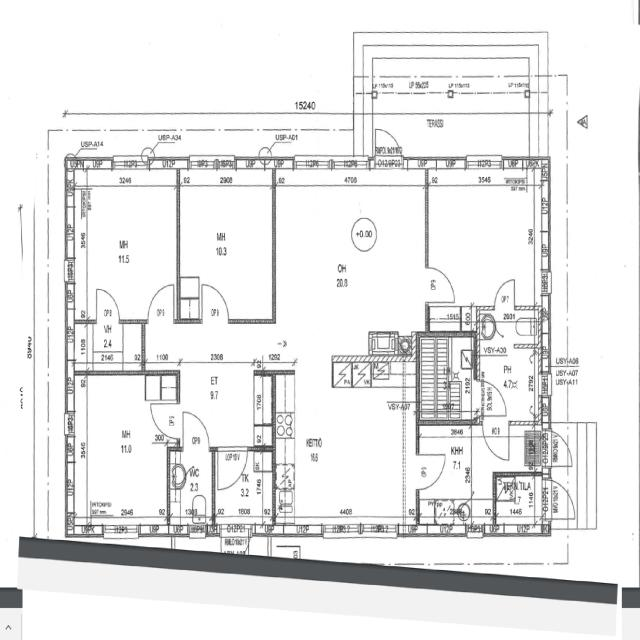door: (168, 444, 214, 522), (213, 445, 267, 511), (214, 444, 249, 492), (424, 262, 458, 304), (413, 450, 447, 491), (145, 280, 177, 322), (200, 280, 232, 321), (149, 399, 181, 439), (181, 408, 211, 448), (491, 274, 519, 316), (482, 424, 511, 463), (93, 284, 122, 322), (481, 378, 508, 418), (373, 124, 403, 157), (550, 481, 574, 522), (550, 432, 573, 466)
window: (62, 187, 79, 260), (109, 154, 148, 173), (464, 154, 505, 171), (187, 153, 223, 172), (466, 530, 484, 541)
zone: (70, 372, 174, 524), (74, 177, 179, 319), (425, 182, 539, 307), (179, 178, 275, 317), (416, 424, 489, 525), (477, 331, 543, 424), (420, 333, 477, 422), (210, 449, 274, 526), (168, 446, 214, 524), (494, 472, 546, 534), (81, 321, 144, 372), (416, 436, 462, 504), (424, 302, 477, 333), (122, 320, 146, 371), (70, 321, 94, 371), (479, 381, 510, 416), (551, 432, 571, 466)
